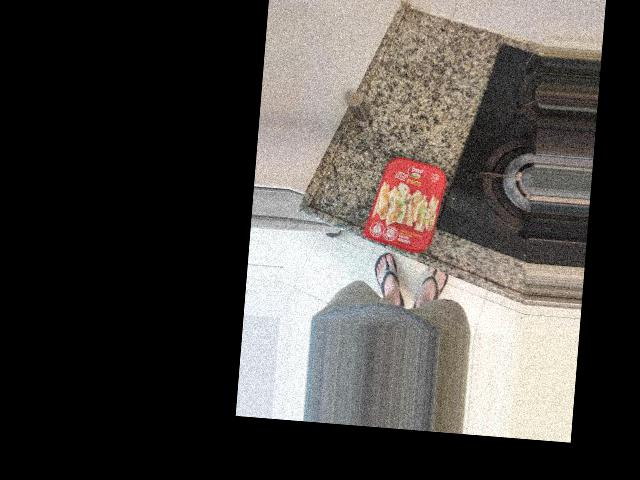cheese: (382, 57, 470, 177)
